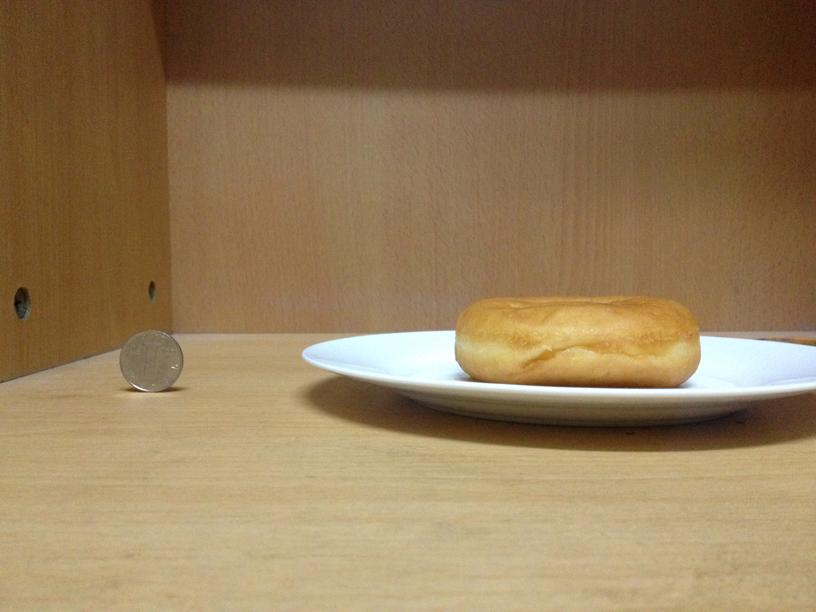coin: (120, 329, 184, 393)
doughnut: (452, 290, 701, 386)
